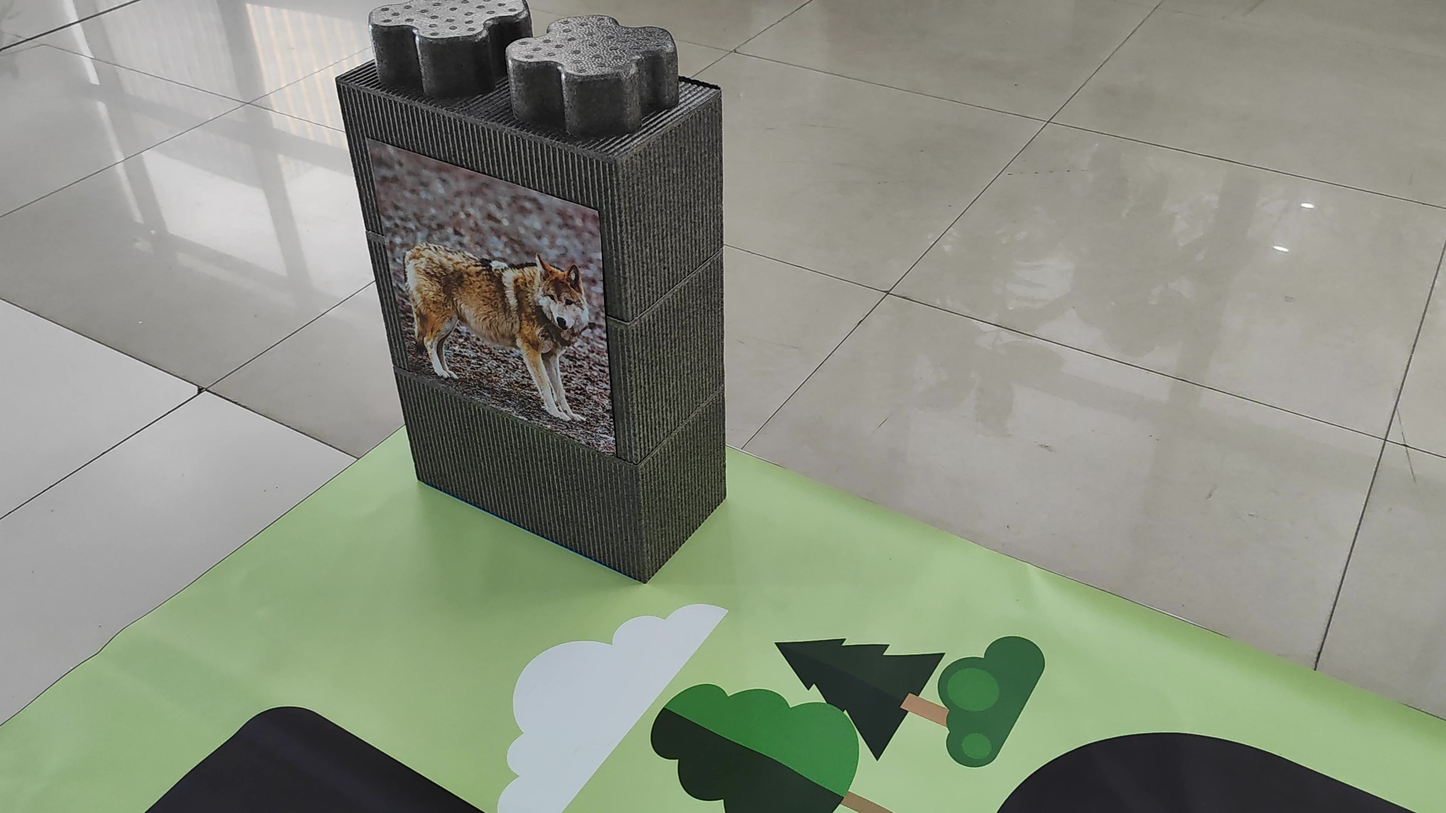wolf: (363, 157, 596, 413)
